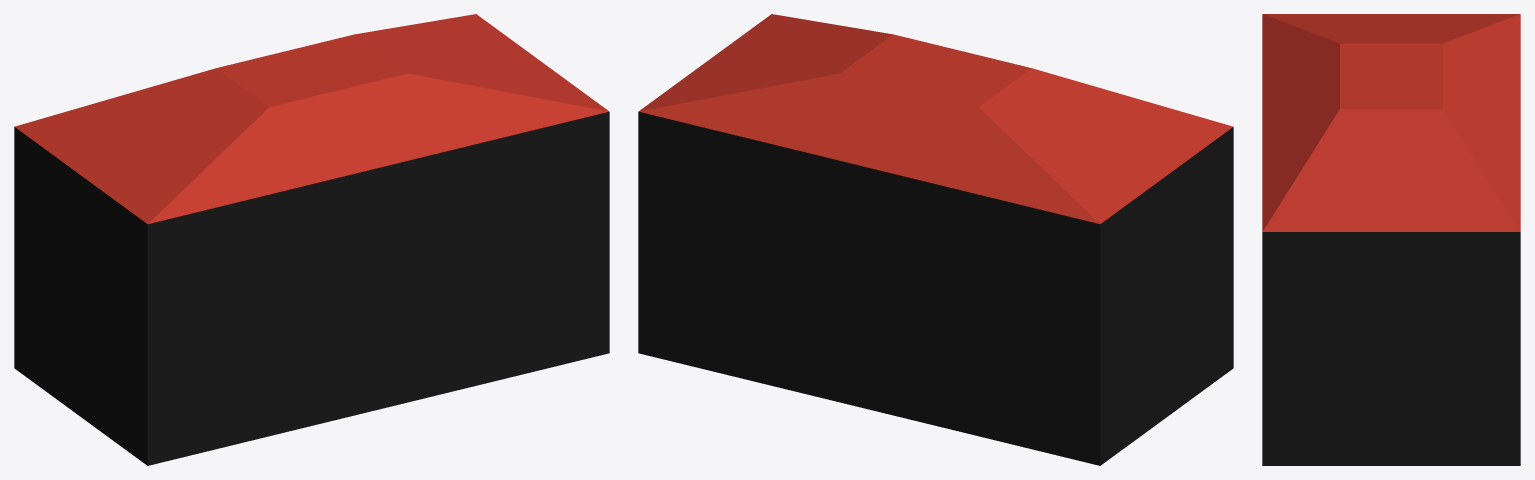
Rendered from Osprey_Bicoptere_central.obj.
The picture shows the model from 3 angles, left to right: view 1: azimuth 30°, elevation 25°; view 2: azimuth 150°, elevation 25°; view 3: azimuth 270°, elevation 25°; orthographic projection. The views are drawn at different scales.
Visible parts, largest first — view 1: Corps1, Corps6; view 2: Corps1, Corps6; view 3: Corps1, Corps6.
Boxes of the visible parts, x1,y1,x2,y2 form: Corps1: [14, 111, 609, 465]; Corps6: [15, 14, 608, 223]; Corps1: [638, 111, 1233, 465]; Corps6: [639, 14, 1232, 223]; Corps1: [1262, 232, 1520, 465]; Corps6: [1262, 14, 1520, 231].
Size of the model in its own units: 10 by 6 by 5.
